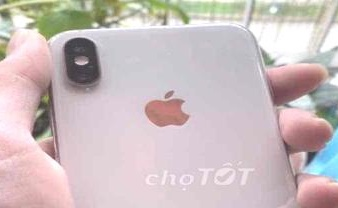scratch: (78, 87, 102, 101)
